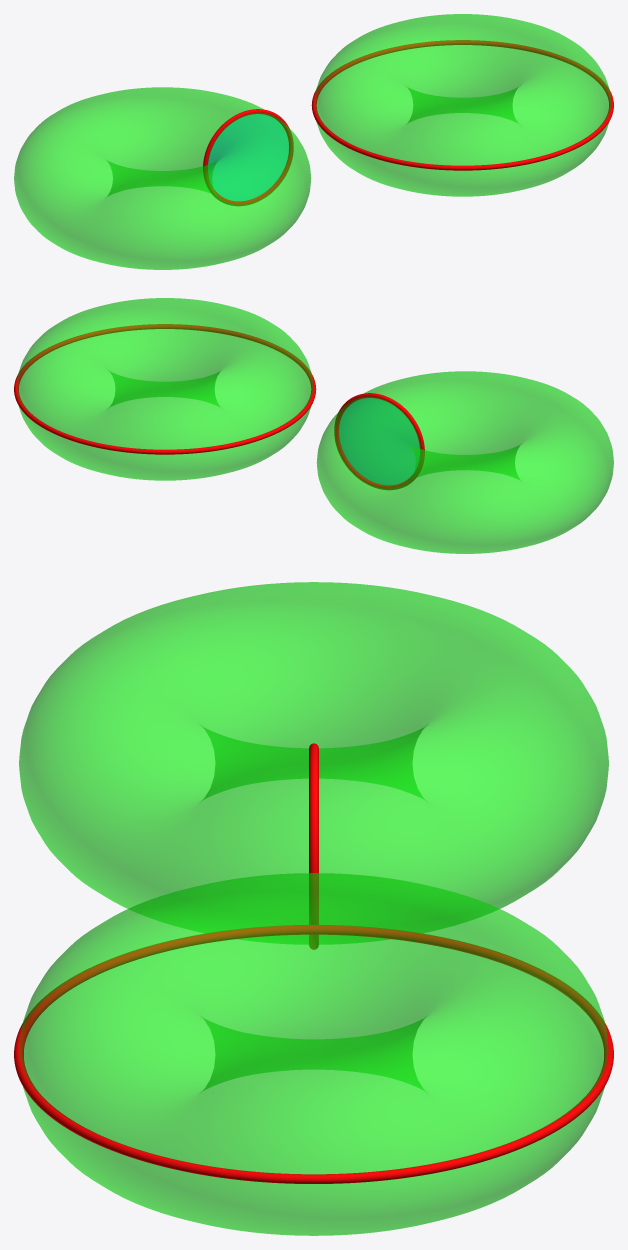
3 renders of one model, top to bottom at view 1: azimuth 30°, elevation 25°; view 2: azimuth 150°, elevation 25°; view 3: azimuth 270°, elevation 25°, orthographic. The views are drawn at different scales.
Visible parts, largest first — view 1: T1, Reference Torus, meridional disk, TorusKnot_1_0, meridional_arc; view 2: T1, Reference Torus, meridional disk, TorusKnot_1_0, meridional_arc; view 3: T1, Reference Torus, TorusKnot_1_0, meridional_arc.
Part boxes in pixels (bbox=[...]): T1: bbox=[14, 87, 311, 269]; Reference Torus: bbox=[315, 14, 610, 196]; meridional disk: bbox=[208, 114, 288, 200]; TorusKnot_1_0: bbox=[311, 40, 613, 170]; meridional_arc: bbox=[203, 109, 293, 205]; T1: bbox=[316, 371, 613, 553]; Reference Torus: bbox=[17, 298, 312, 480]; meridional disk: bbox=[339, 398, 419, 484]; TorusKnot_1_0: bbox=[14, 324, 316, 454]; meridional_arc: bbox=[334, 393, 424, 489]; T1: bbox=[19, 582, 608, 944]; Reference Torus: bbox=[19, 873, 608, 1235]; TorusKnot_1_0: bbox=[14, 925, 613, 1183]; meridional_arc: bbox=[309, 743, 318, 949].
Size of the model in its own units: 6.52 by 1.05 by 3.05.
